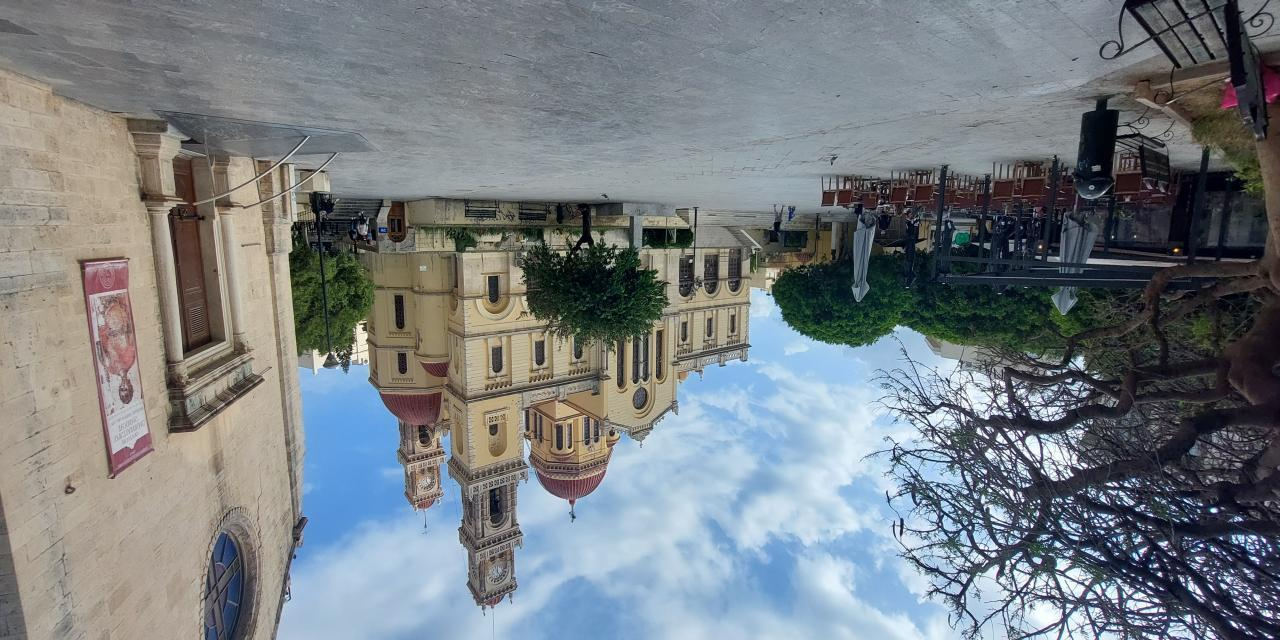Agios Minas: (360, 238, 754, 626)
